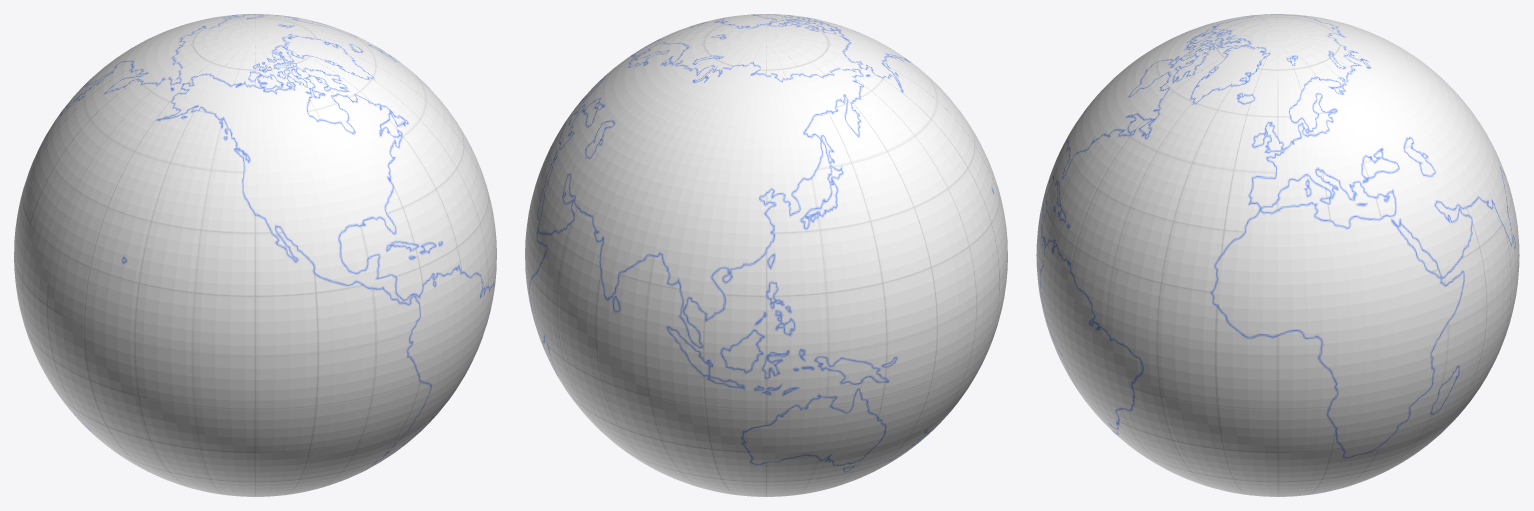
File: globe.glb
3 views of the same model, side by side, from view 1: azimuth 30°, elevation 25°; view 2: azimuth 150°, elevation 25°; view 3: azimuth 270°, elevation 25° (orthographic).
Parts seen in each view (by area): view 1: Sphere.001; view 2: Sphere.001; view 3: Sphere.001.
Boxes of the visible parts, x1,y1,x2,y2 form: Sphere.001: [14, 14, 496, 496]; Sphere.001: [525, 14, 1007, 496]; Sphere.001: [1036, 14, 1519, 496].
Bounding box in the file's own units: 2 × 2 × 2.
Materials: 1 (1 with a texture image).
